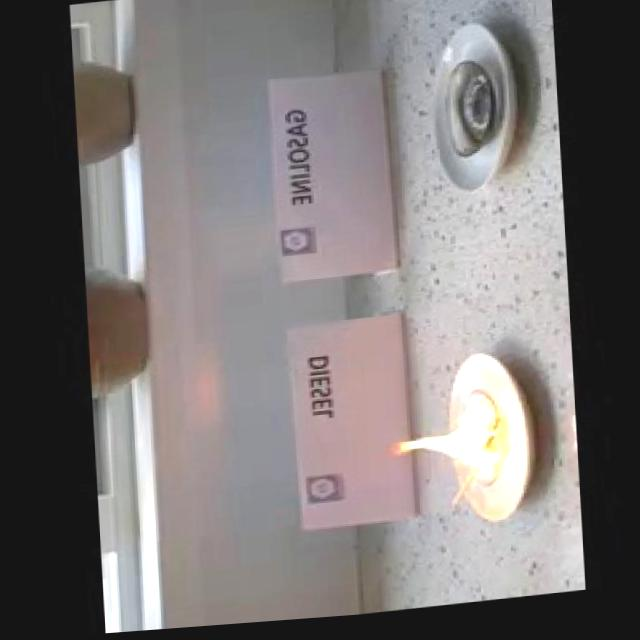Smoke: (374, 397, 504, 494)
